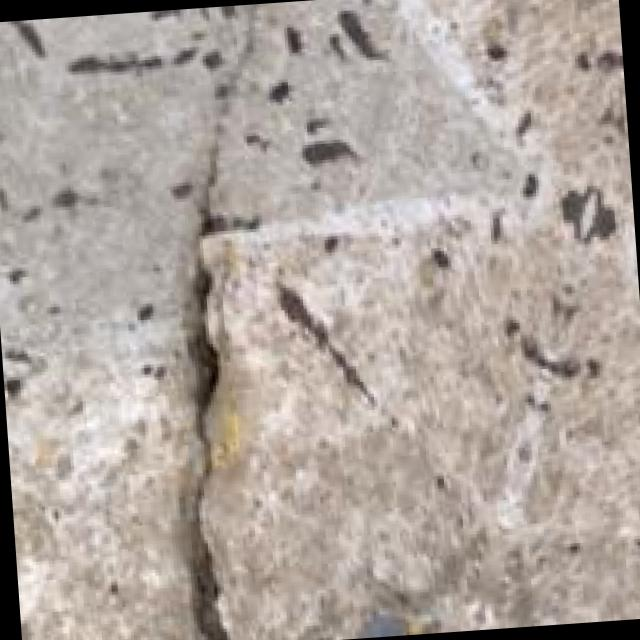crack: (69, 145, 374, 640)
